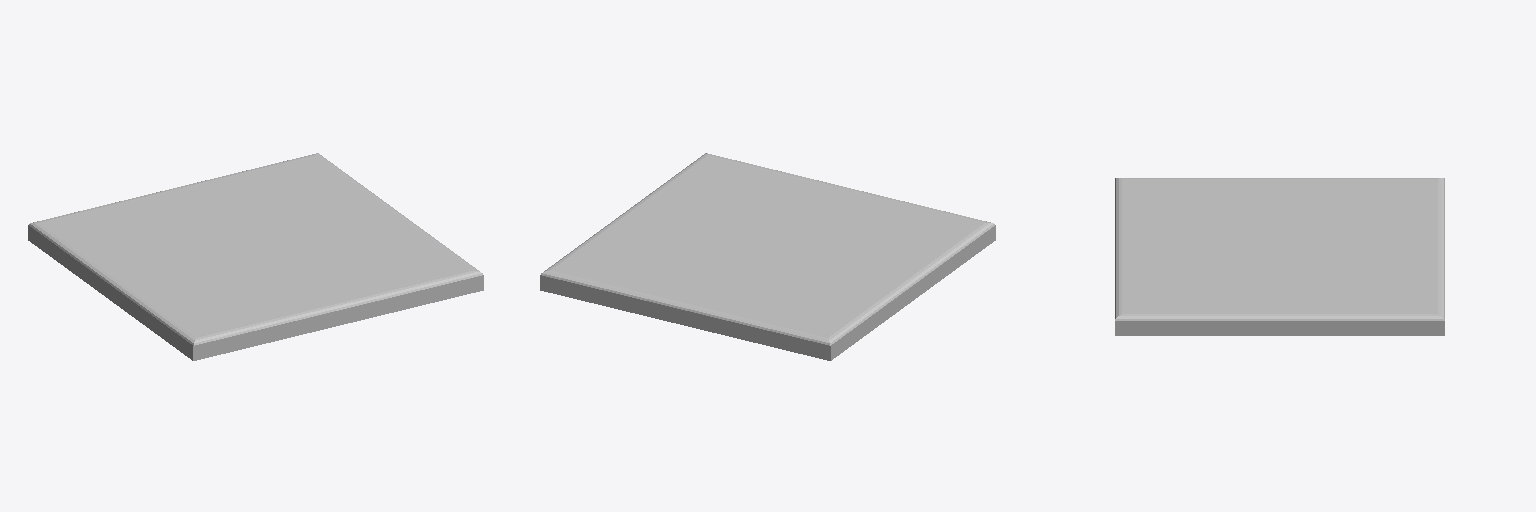
Rendered from original-60.obj.
3 views of the same model, side by side, from view 1: azimuth 30°, elevation 25°; view 2: azimuth 150°, elevation 25°; view 3: azimuth 270°, elevation 25° (orthographic).
Visible parts, largest first — view 1: mesh66/mesh66-geometry#mesh66-geometry; view 2: mesh66/mesh66-geometry#mesh66-geometry; view 3: mesh66/mesh66-geometry#mesh66-geometry.
Boxes of the visible parts, box(x1,y1,x2,y2) form: mesh66/mesh66-geometry#mesh66-geometry: box(28, 153, 483, 360); mesh66/mesh66-geometry#mesh66-geometry: box(540, 153, 995, 360); mesh66/mesh66-geometry#mesh66-geometry: box(1115, 178, 1444, 335).
Bounding box in the file's own units: 0.0899 × 0.0056 × 0.0886.